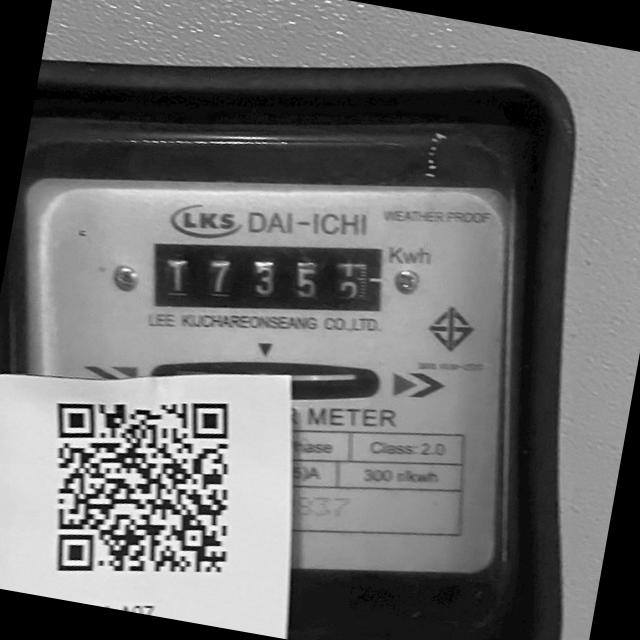qr_code: (51, 396, 233, 577)
